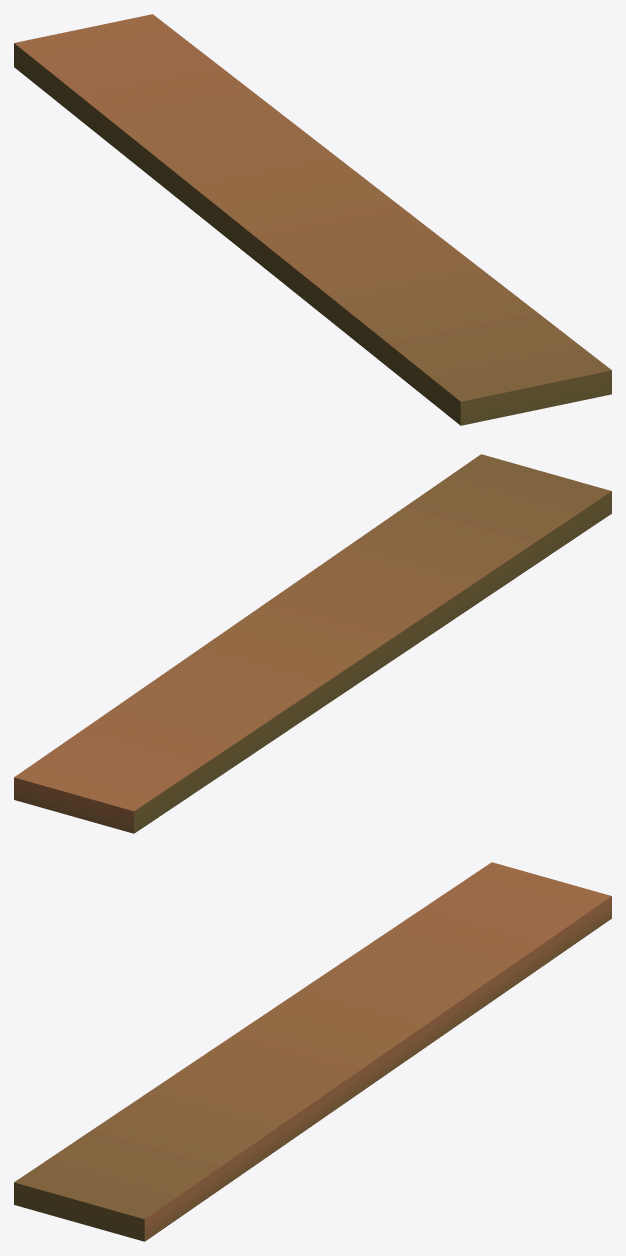
3 views of the same model, one above another, from view 1: azimuth 30°, elevation 25°; view 2: azimuth 150°, elevation 25°; view 3: azimuth 330°, elevation 25° (orthographic). The views are drawn at different scales.
Parts seen in each view (by area): view 1: Object062; view 2: Object062; view 3: Object062.
Part boxes in pixels (bbox=[...]): Object062: bbox=[14, 14, 611, 425]; Object062: bbox=[14, 454, 611, 833]; Object062: bbox=[14, 862, 611, 1241].
Bounding box in the file's own units: 98.82 × 13.68 × 499.
